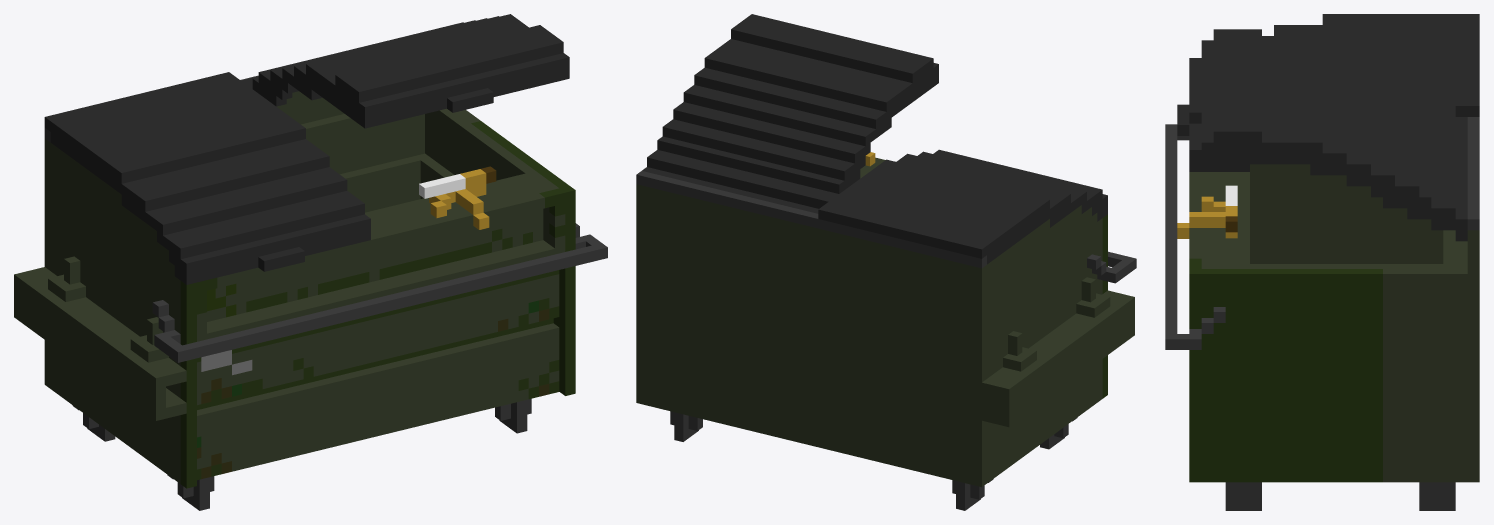
Rendered from TESTOWANIE_VOXELA-2.obj.
3 renders of one model, left to right at view 1: azimuth 30°, elevation 25°; view 2: azimuth 150°, elevation 25°; view 3: azimuth 270°, elevation 25°, orthographic. The views are drawn at different scales.
Size of the model in its own units: 4.3 by 3.6 by 2.6.
Materials: 1 (1 with a texture image).
